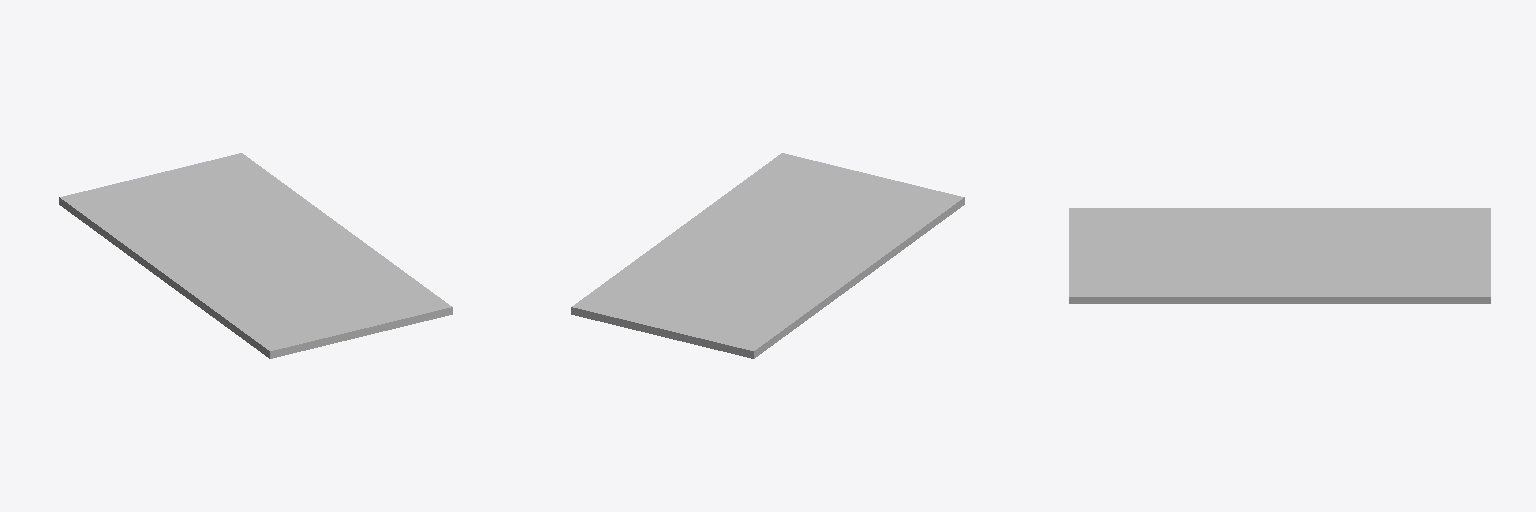
File: Floor.obj
3 views of the same model, side by side, from view 1: azimuth 30°, elevation 25°; view 2: azimuth 150°, elevation 25°; view 3: azimuth 270°, elevation 25° (orthographic).
Bounding box in the file's own units: 25 × 1 × 50.